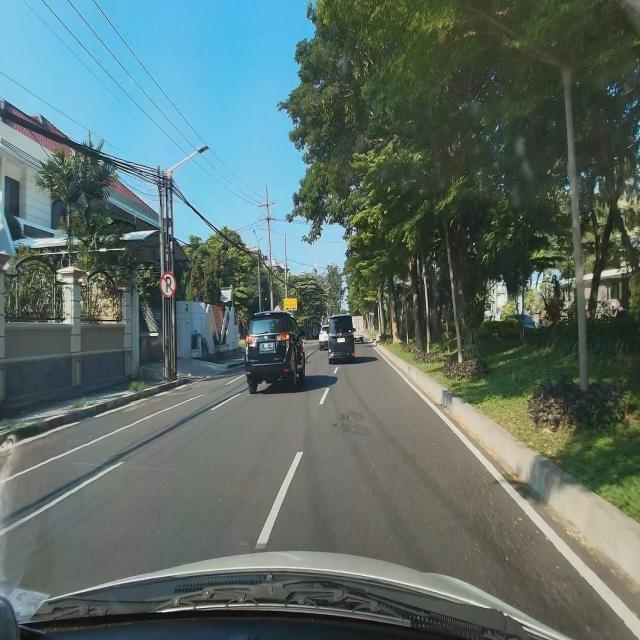car: (244, 308, 306, 394), (328, 313, 356, 365)
license-plate: (260, 342, 274, 352), (337, 338, 345, 343)
